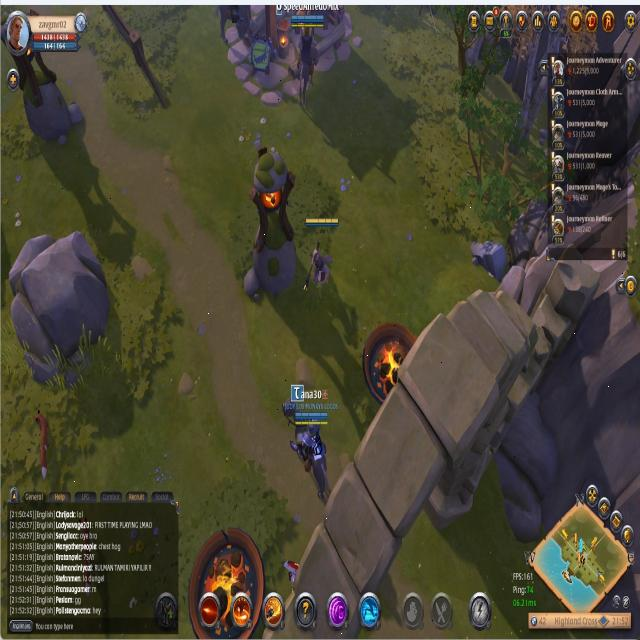stone: (468, 230, 510, 282)
